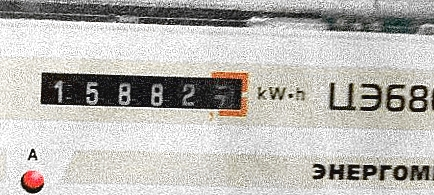1: (52, 75, 66, 104)
2: (179, 81, 197, 108)
5: (83, 78, 101, 109)
7: (212, 91, 226, 109)
8: (115, 79, 132, 108), (148, 80, 165, 108)
screen: (27, 55, 256, 125)
